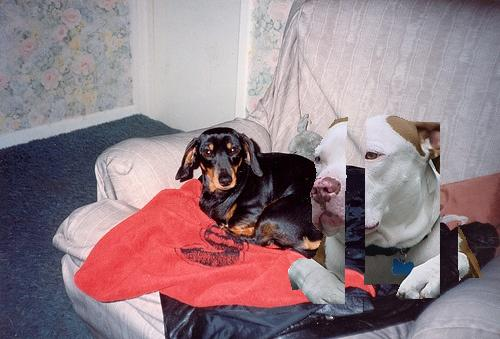tampered: (289, 116, 483, 304)
